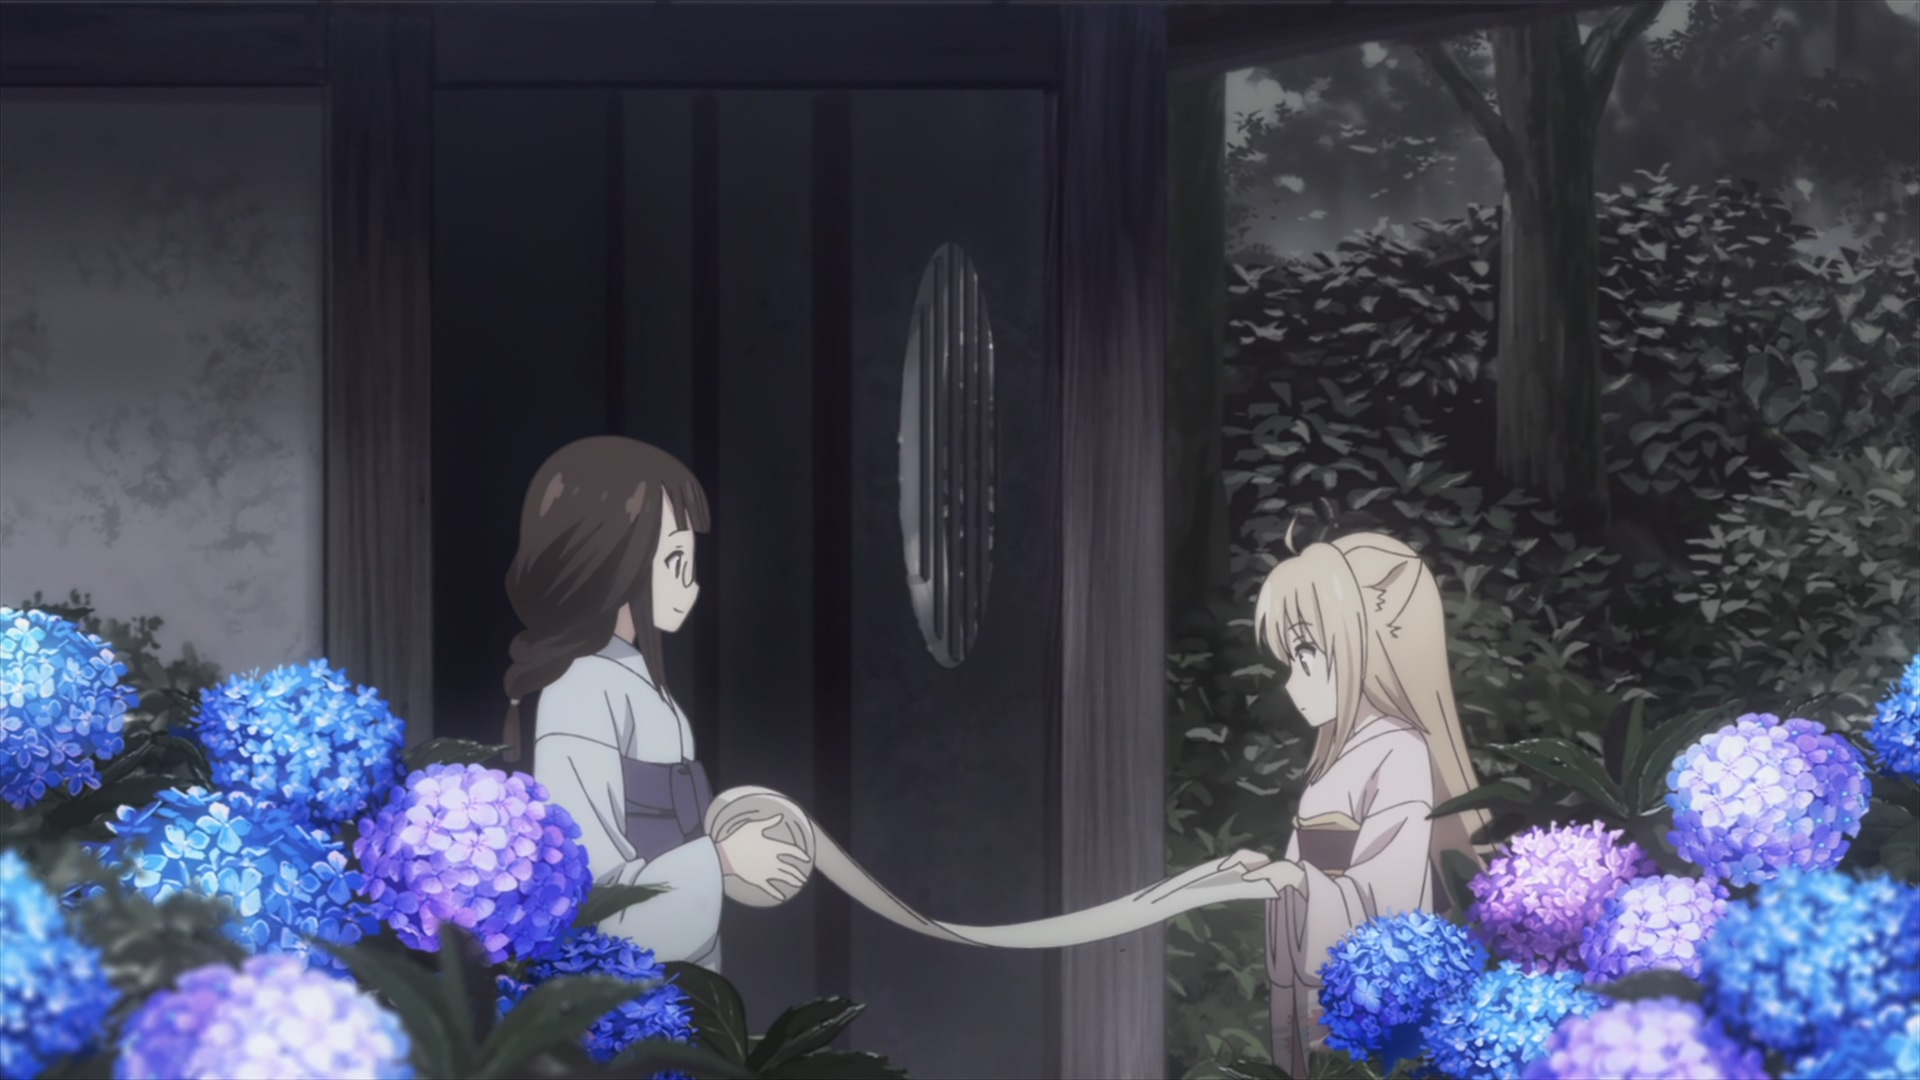其他: (504, 435, 808, 972)
柚: (1218, 513, 1490, 1080)
